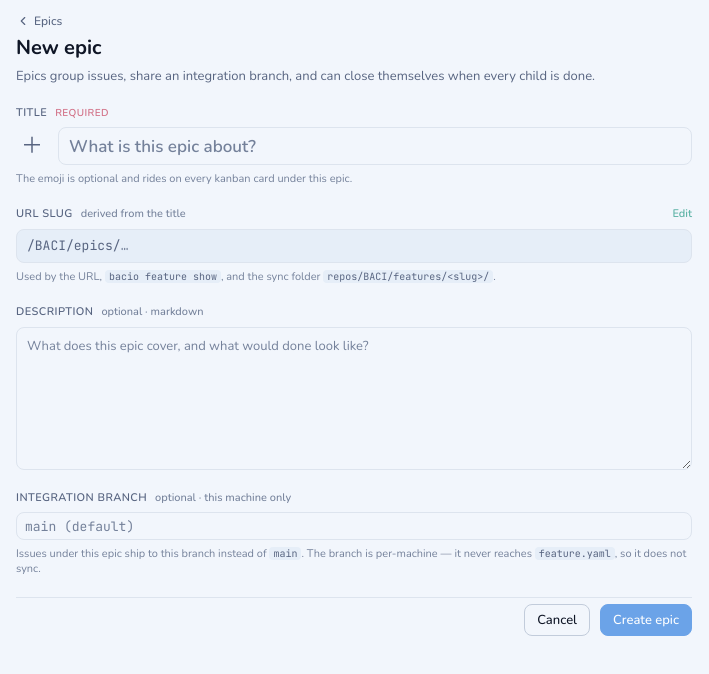
Scenario: NewEpicPage › refuses the reserved `new` slug — it is this page’s own address
Type "New" into the field labelled "Title" at {"x": 375, "y": 146}, box [58, 127, 692, 165]
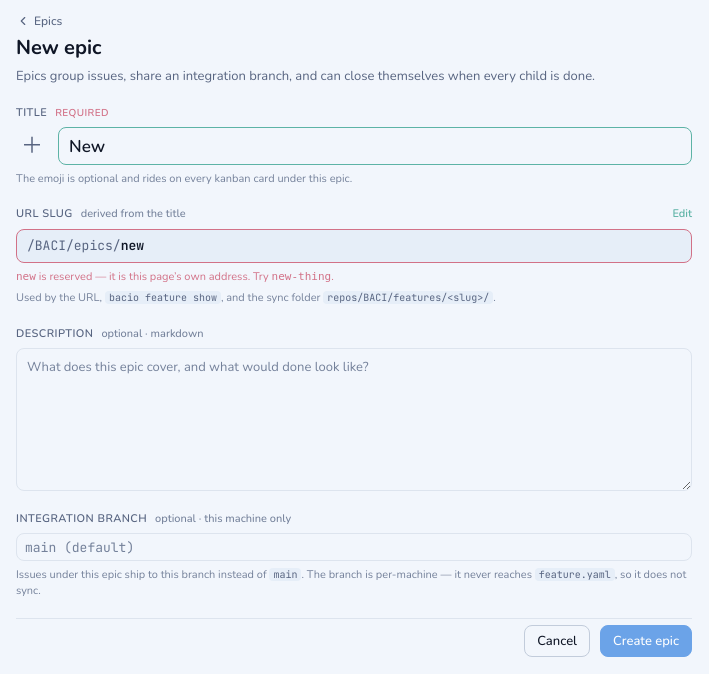
Expected: the button "Create epic" is disabled, [600, 625, 692, 657]
Expected: the text "new is reserved — it is this page’s own address. Try new-thing." is shown, [16, 269, 334, 284]
